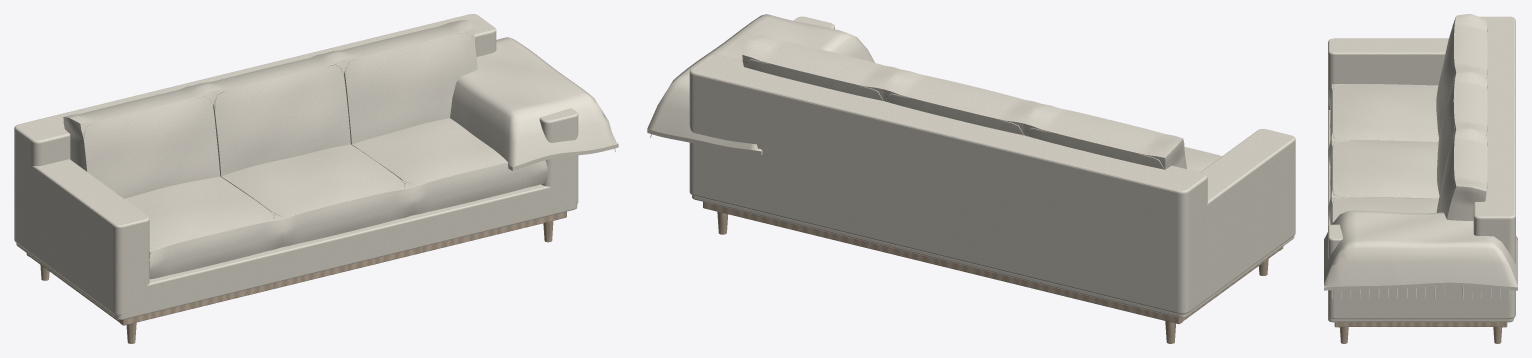
The model's file is kowhai-hero-liv-01.glb.
3 renders of one model, left to right at view 1: azimuth 30°, elevation 25°; view 2: azimuth 150°, elevation 25°; view 3: azimuth 270°, elevation 25°, orthographic. The views are drawn at different scales.
Visible parts, largest first — view 1: SubPart (×12); view 2: SubPart (×9); view 3: SubPart (×12).
Boxes of the visible parts, x1=… form: SubPart (×12): x1=14, y1=14, x2=618, y2=325; SubPart (×9): x1=647, y1=14, x2=1295, y2=323; SubPart (×12): x1=1324, y1=14, x2=1517, y2=326.
Size of the model in its own units: 2.55 by 0.8284 by 0.96.
Materials: 5 (4 with a texture image).
